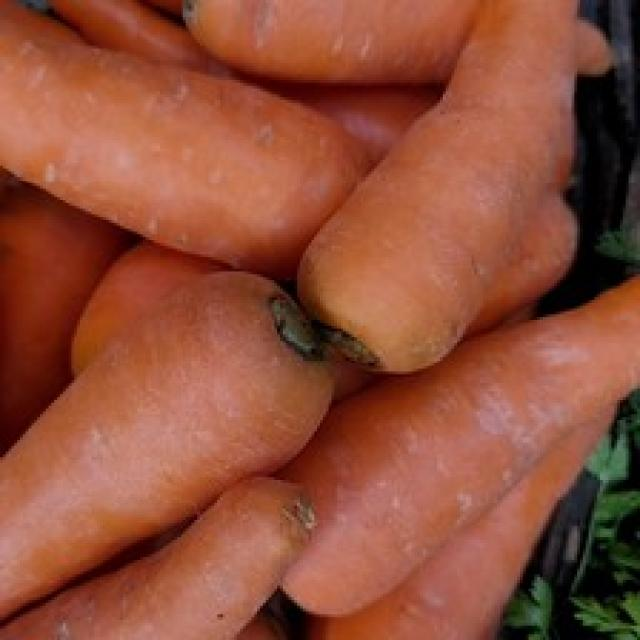Fresh_Carrot: (5, 3, 640, 640), (6, 270, 329, 619), (283, 308, 628, 604), (323, 4, 570, 381), (17, 233, 324, 512), (21, 25, 356, 259)
